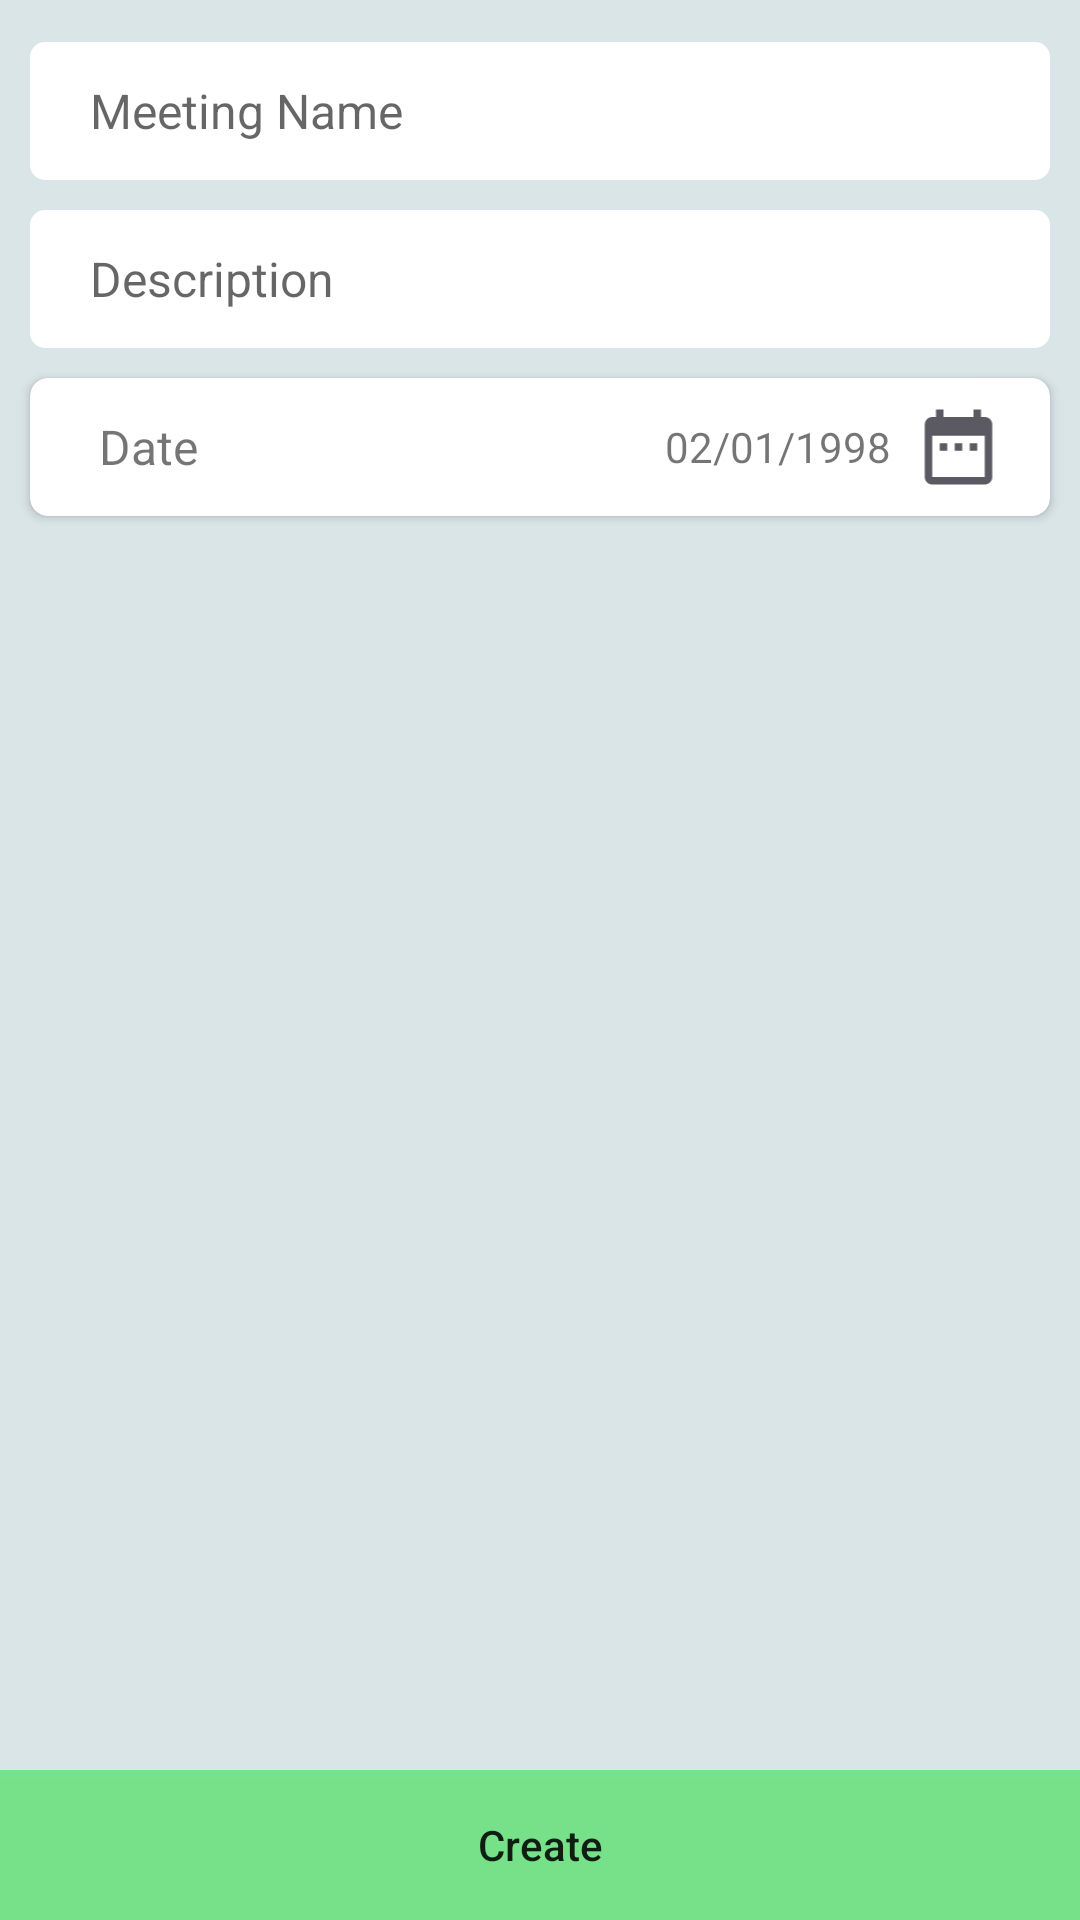

Where to tap for icons on this 1080px x 1920px app screen, as point (x, y):
date range: point (958, 447)
